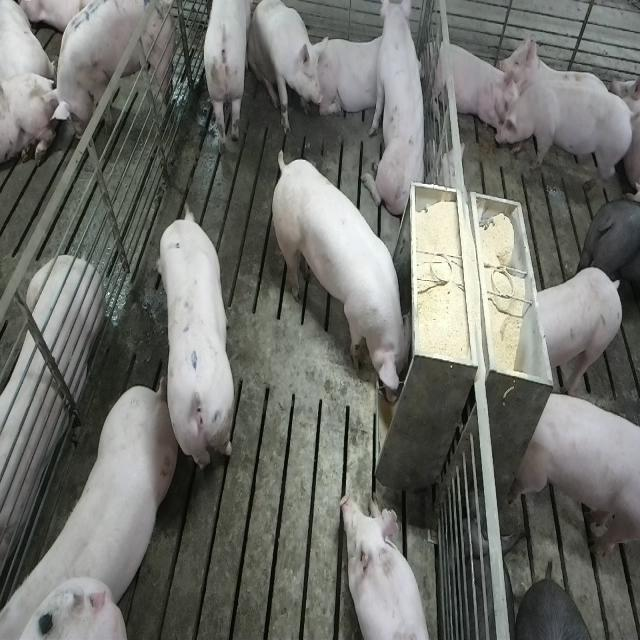Feeding: (275, 148, 419, 406)
Sitting: (368, 4, 428, 222), (249, 2, 323, 138)
Standing: (152, 206, 235, 478), (514, 386, 638, 564), (49, 0, 177, 138), (496, 78, 636, 203), (533, 266, 623, 399), (202, 2, 254, 159), (583, 192, 640, 315)
Sternal_lying: (0, 250, 102, 580), (339, 491, 434, 640), (424, 29, 512, 140), (310, 32, 394, 121)
